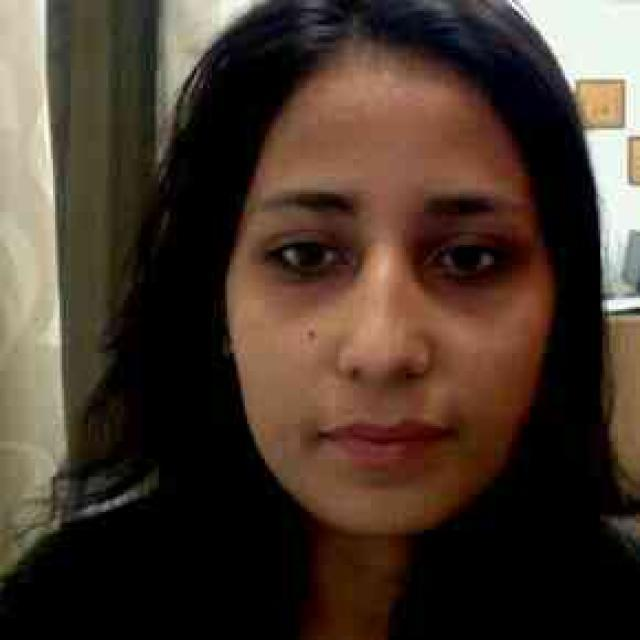puffy_eyes: (277, 252, 364, 315), (418, 264, 506, 312)
